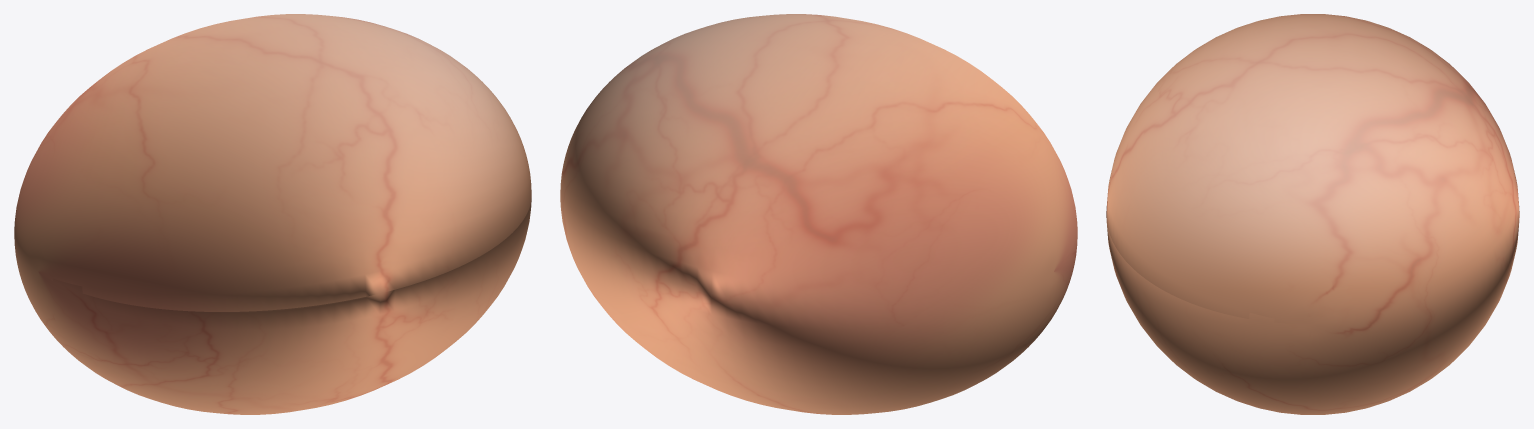
3 renders of one model, left to right at view 1: azimuth 30°, elevation 25°; view 2: azimuth 150°, elevation 25°; view 3: azimuth 270°, elevation 25°, orthographic. The views are drawn at different scales.
Parts seen in each view (by area): view 1: default; view 2: default; view 3: default.
Part boxes in pixels (x1,y1,x2,y2): default: (14, 14, 531, 414); default: (560, 14, 1077, 414); default: (1106, 14, 1519, 414).
Size of the model in its own units: 10 by 7.12 by 7.95.
Materials: 19 (19 with a texture image).
